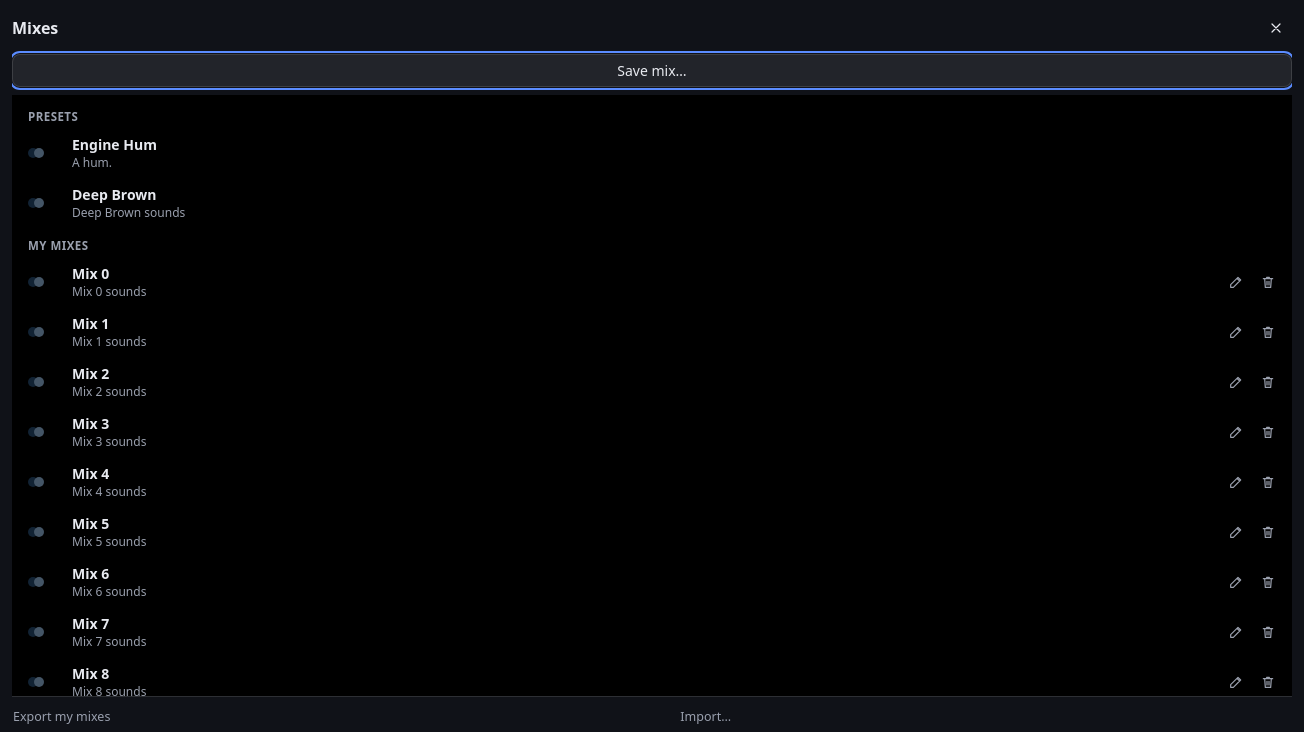
Test case: MixesView saving › asks for one to be deleted once full, but still saves over a name
Later steps or results of the test are not shown.
Click the button "Save mix…". click: (652, 70)
box: [12,54,1292,87]
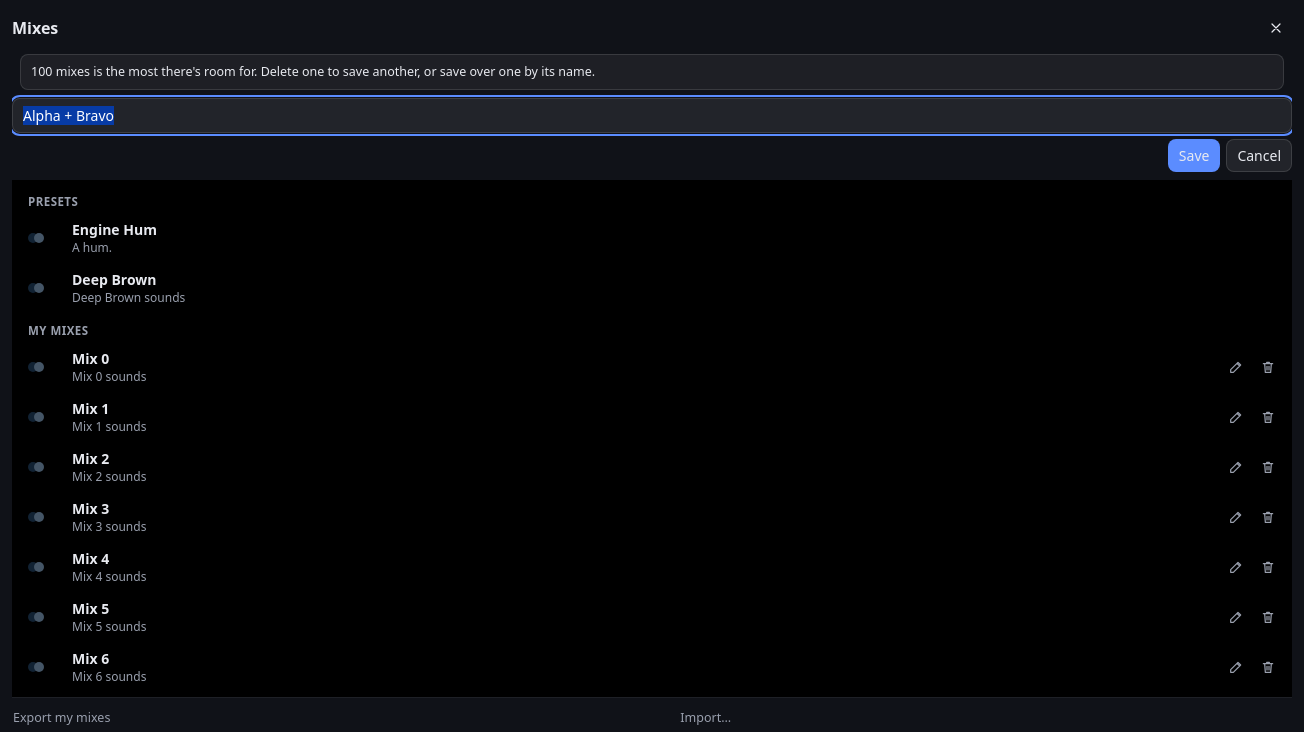
Result: the text "Delete one to save another" is shown at [52,63,595,80]
